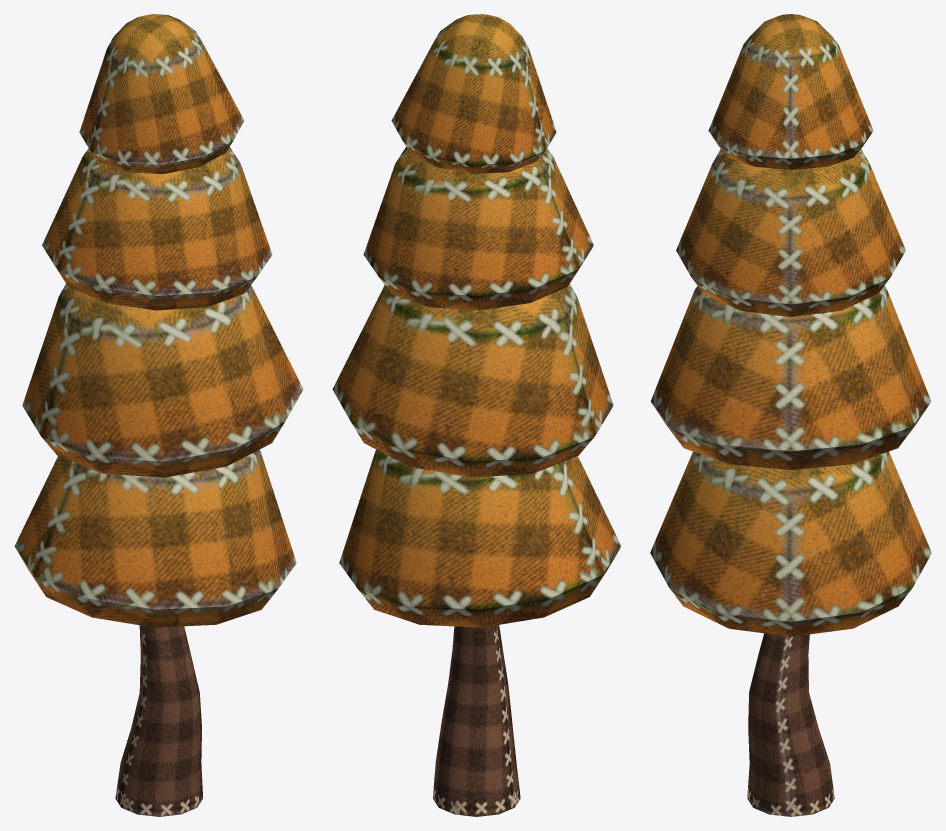
The model's file is lpb_cs_tree9.fbx.
3 views of the same model, side by side, from view 1: azimuth 30°, elevation 25°; view 2: azimuth 150°, elevation 25°; view 3: azimuth 270°, elevation 25° (orthographic).
Parts seen in each view (by area): view 1: lpb_cs_tree9; view 2: lpb_cs_tree9; view 3: lpb_cs_tree9.
Boxes of the visible parts, x1,y1,x2,y2 form: lpb_cs_tree9: (14, 14, 303, 816); lpb_cs_tree9: (332, 14, 621, 816); lpb_cs_tree9: (650, 14, 931, 816).
Bounding box in the file's own units: 69.47 × 206 × 67.76.
